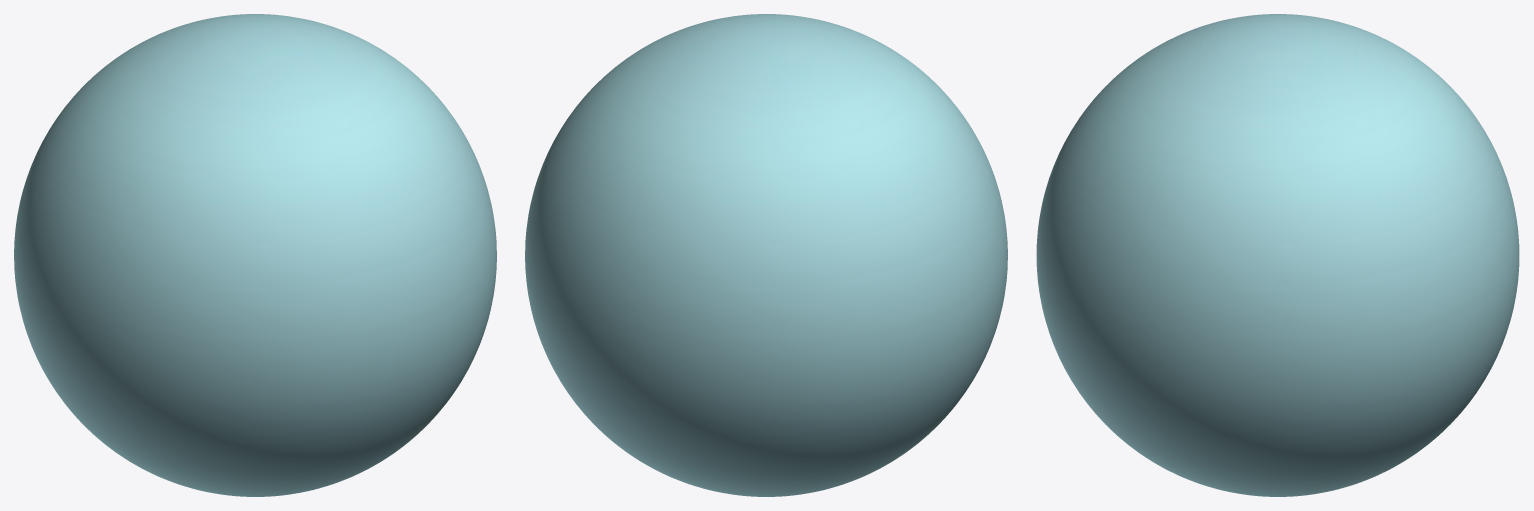
The model's file is Uranus.glb.
The picture shows the model from 3 angles, left to right: view 1: azimuth 30°, elevation 25°; view 2: azimuth 150°, elevation 25°; view 3: azimuth 270°, elevation 25°; orthographic projection.
Parts seen in each view (by area): view 1: Uranus; view 2: Uranus; view 3: Uranus.
Part boxes in pixels (x1,y1,x2,y2): Uranus: [14, 14, 496, 496]; Uranus: [525, 14, 1007, 496]; Uranus: [1036, 14, 1519, 496].
Size of the model in its own units: 2 by 2 by 2.
Materials: 1 (1 with a texture image).
